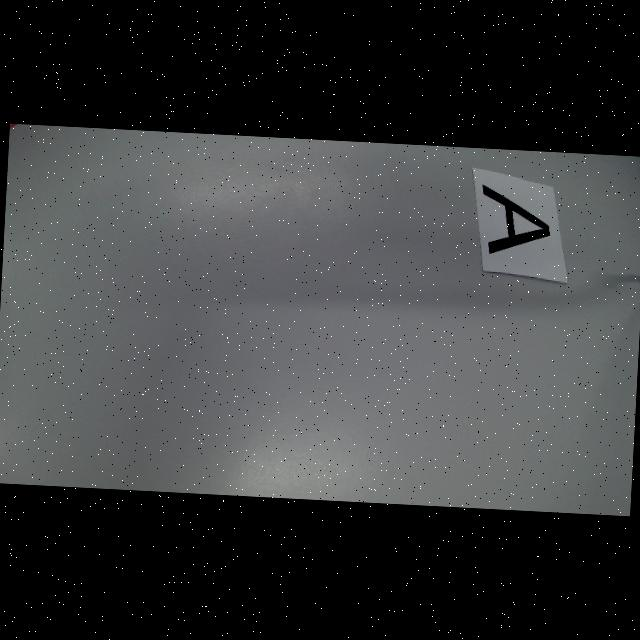FAKE: (479, 184, 554, 258)
